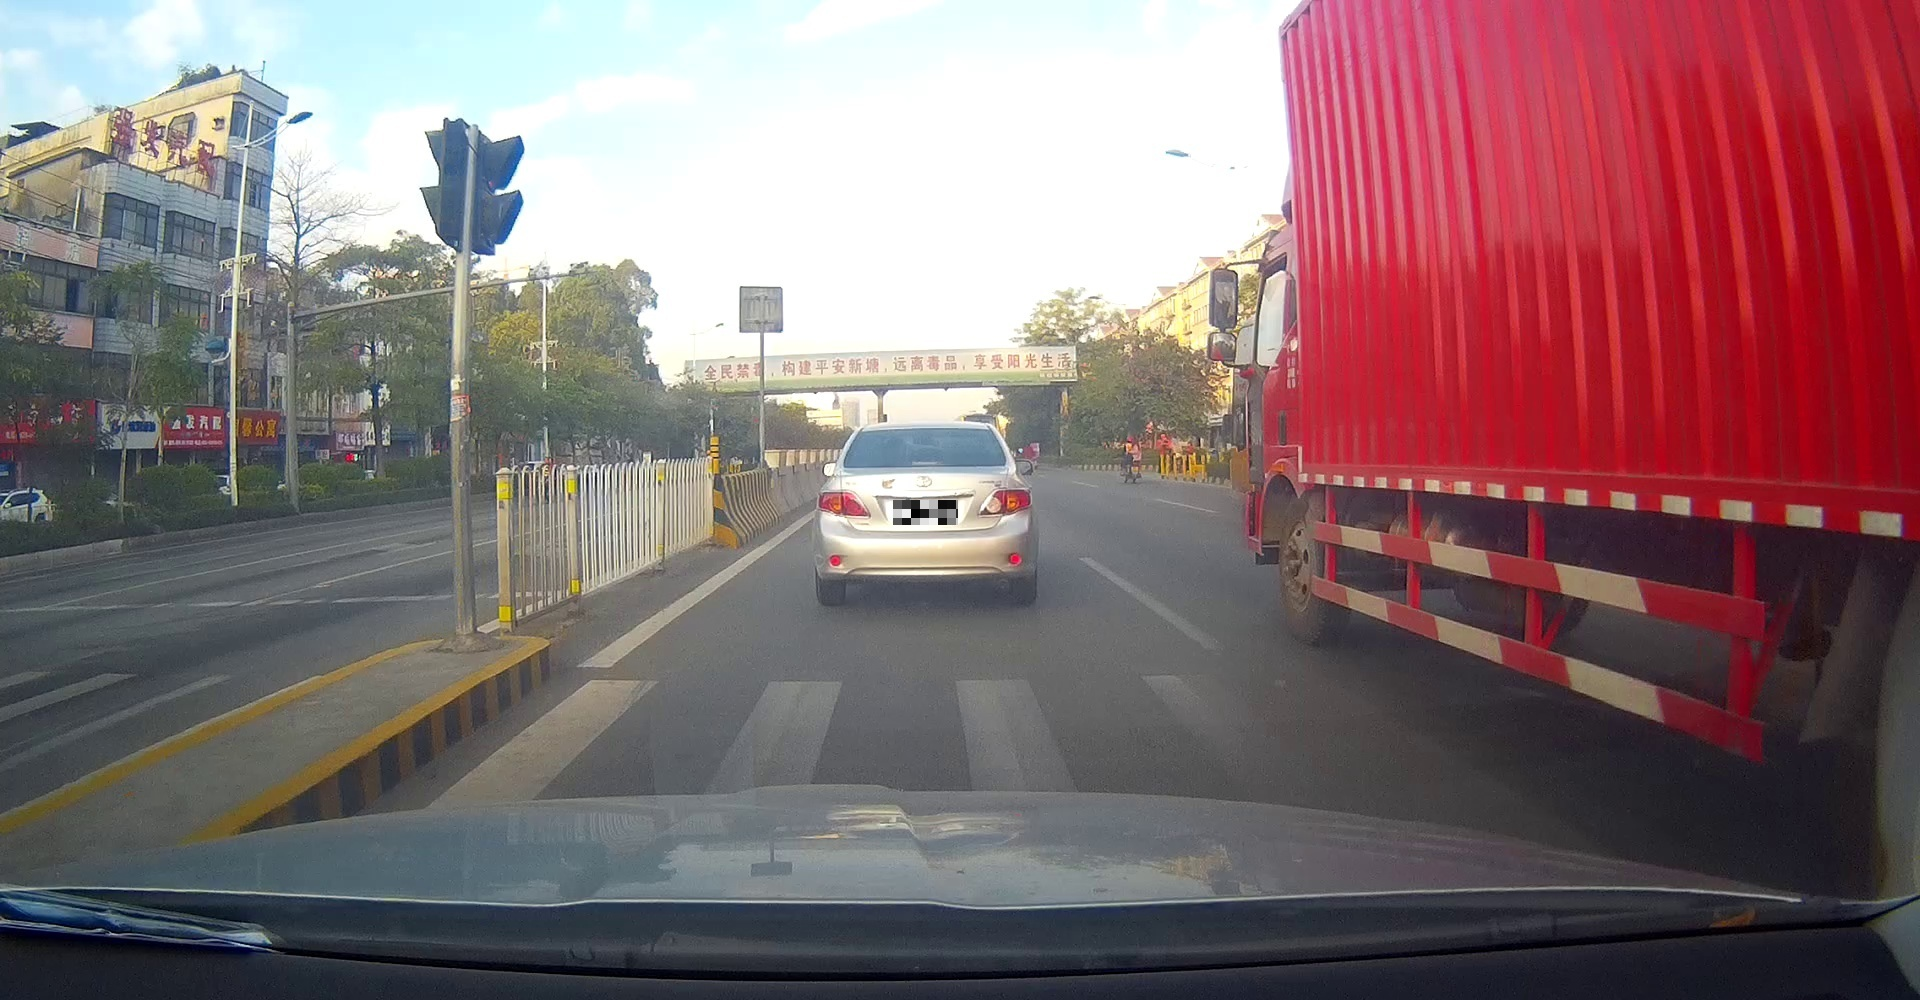L_light: (817, 490, 870, 519)
R_light: (978, 489, 1032, 516)
T_light: (910, 461, 938, 467)
day-no: (815, 421, 1032, 607)
plate_1: (893, 500, 957, 525)
